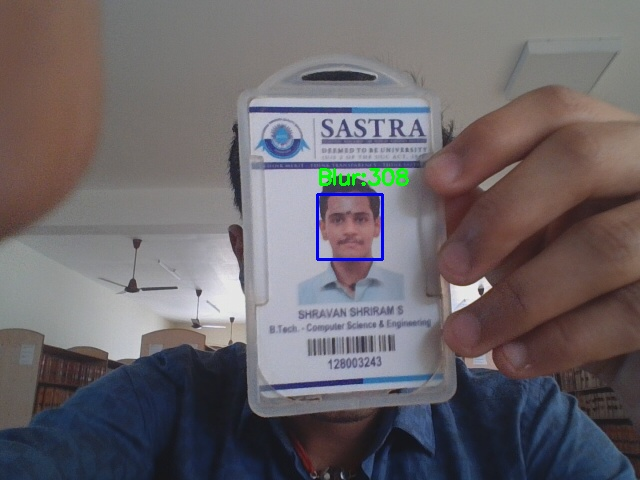fake: (317, 194, 382, 259)
